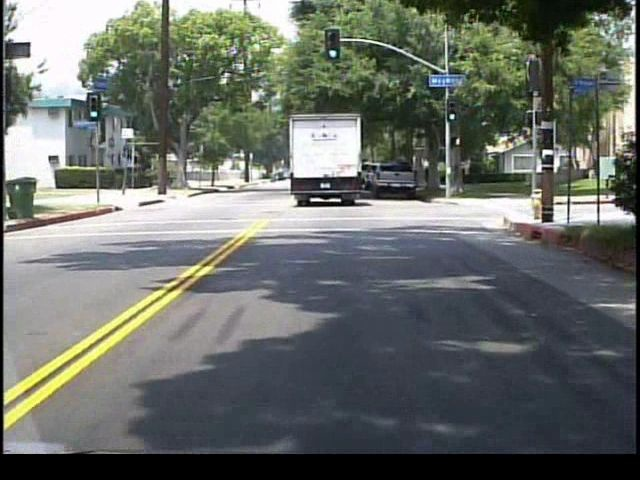person: (423, 166, 431, 185)
